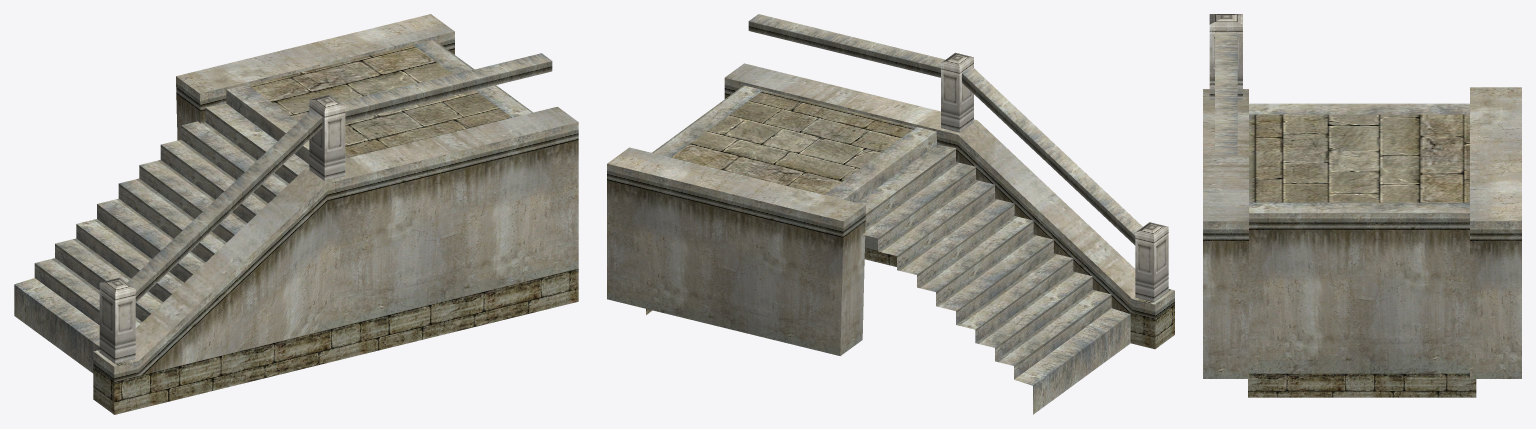
File: rd_sta3.glb
3 views of the same model, side by side, from view 1: azimuth 30°, elevation 25°; view 2: azimuth 150°, elevation 25°; view 3: azimuth 270°, elevation 25° (orthographic). The views are drawn at different scales.
Parts seen in each view (by area): view 1: rd_sta3-col; view 2: rd_sta3-col; view 3: rd_sta3-col.
Part boxes in pixels (box(x1,y1,x2,y2)): rd_sta3-col: box(14, 14, 578, 414); rd_sta3-col: box(607, 14, 1174, 414); rd_sta3-col: box(1203, 14, 1521, 397).
Bounding box in the file's own units: 8.86 × 4.61 × 4.89.
4 materials, 4 textured.
